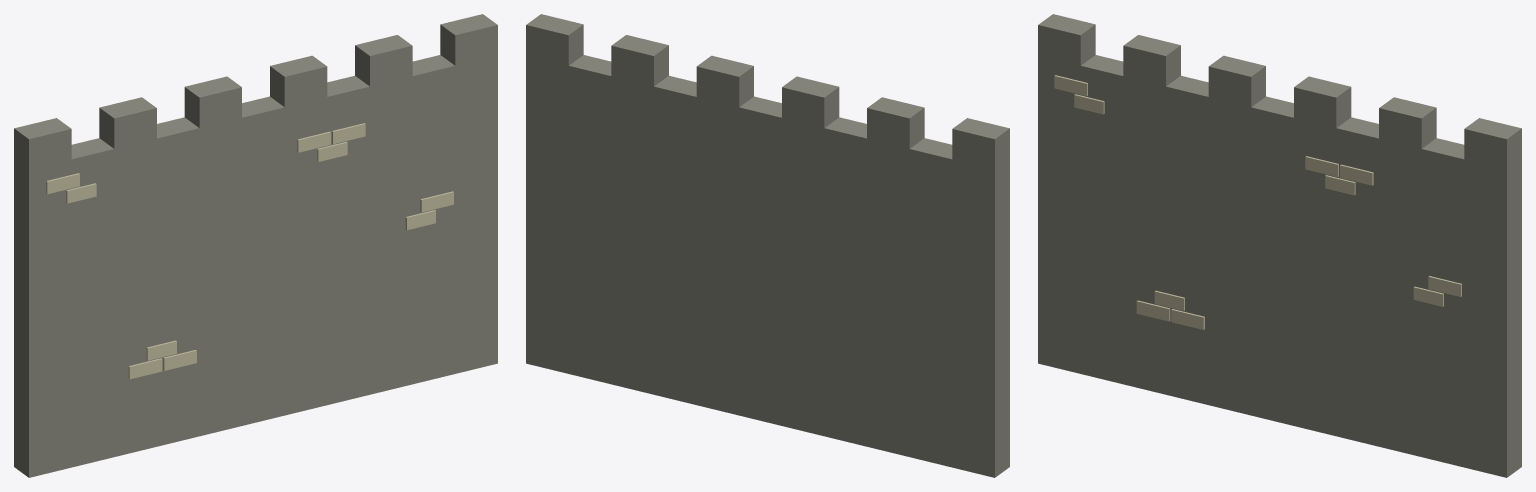
Rendered from Small_Wall_1.fbx.
3 views of the same model, side by side, from view 1: azimuth 30°, elevation 25°; view 2: azimuth 150°, elevation 25°; view 3: azimuth 330°, elevation 25° (orthographic).
Parts seen in each view (by area): view 1: Small_Wall_1; view 2: Small_Wall_1; view 3: Small_Wall_1.
Part boxes in pixels (<box>): Small_Wall_1: <box>14,14,497,477</box>; Small_Wall_1: <box>526,14,1009,477</box>; Small_Wall_1: <box>1038,14,1521,477</box>.
Bounding box in the file's own units: 198 × 137 × 11.73.
Materials: 1 (1 with a texture image).
